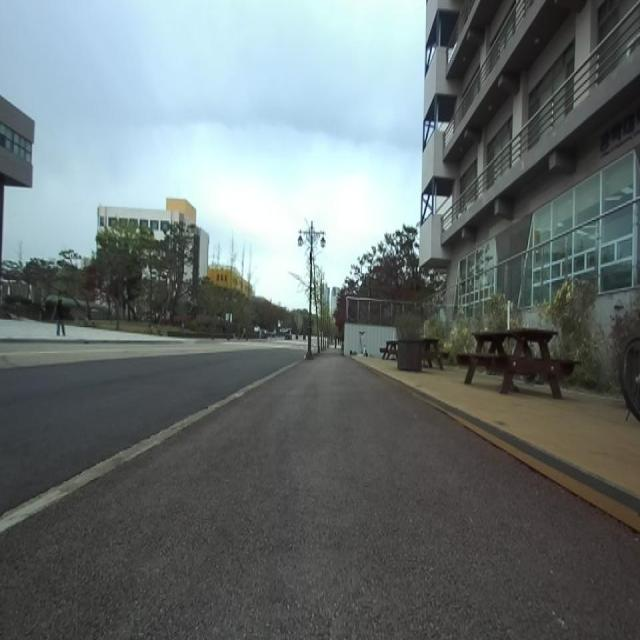sidewalk: (0, 347, 640, 639), (0, 361, 300, 533)
